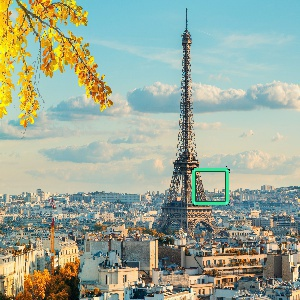square: (190, 166, 230, 206)
